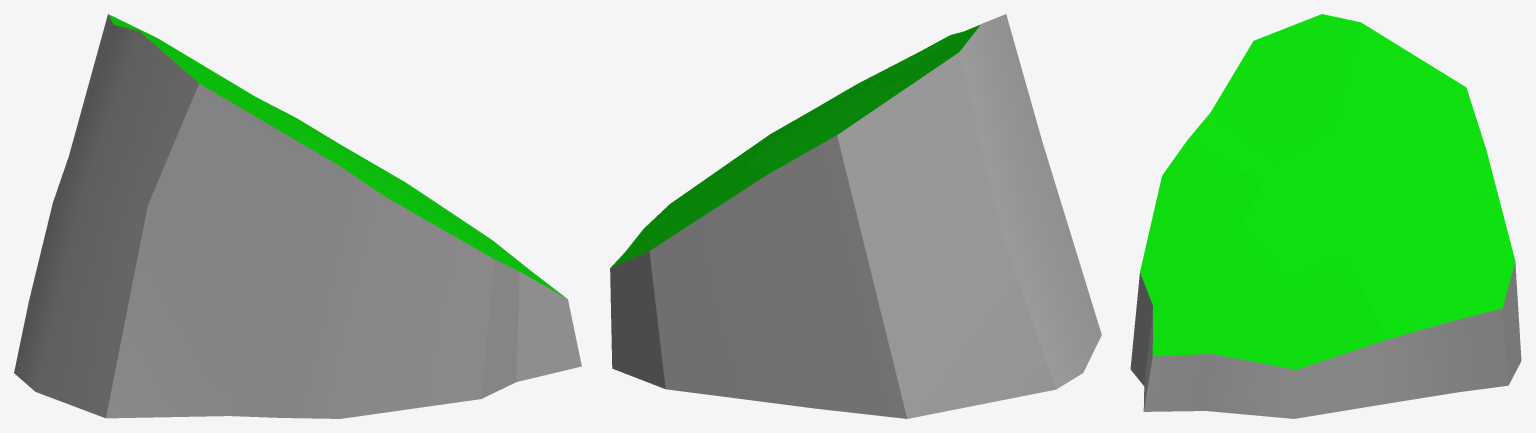
File: rock_beach_small_A.fbx
3 views of the same model, side by side, from view 1: azimuth 30°, elevation 25°; view 2: azimuth 150°, elevation 25°; view 3: azimuth 270°, elevation 25° (orthographic). The views are drawn at different scales.
Visible parts, largest first — view 1: rock_beach_small_A; view 2: rock_beach_small_A; view 3: rock_beach_small_A.
Part boxes in pixels (box(x1,y1,x2,y2)): rock_beach_small_A: box(14, 14, 581, 418); rock_beach_small_A: box(610, 14, 1101, 418); rock_beach_small_A: box(1130, 14, 1521, 418).
Bounding box in the file's own units: 34.32 × 24.18 × 31.93.
